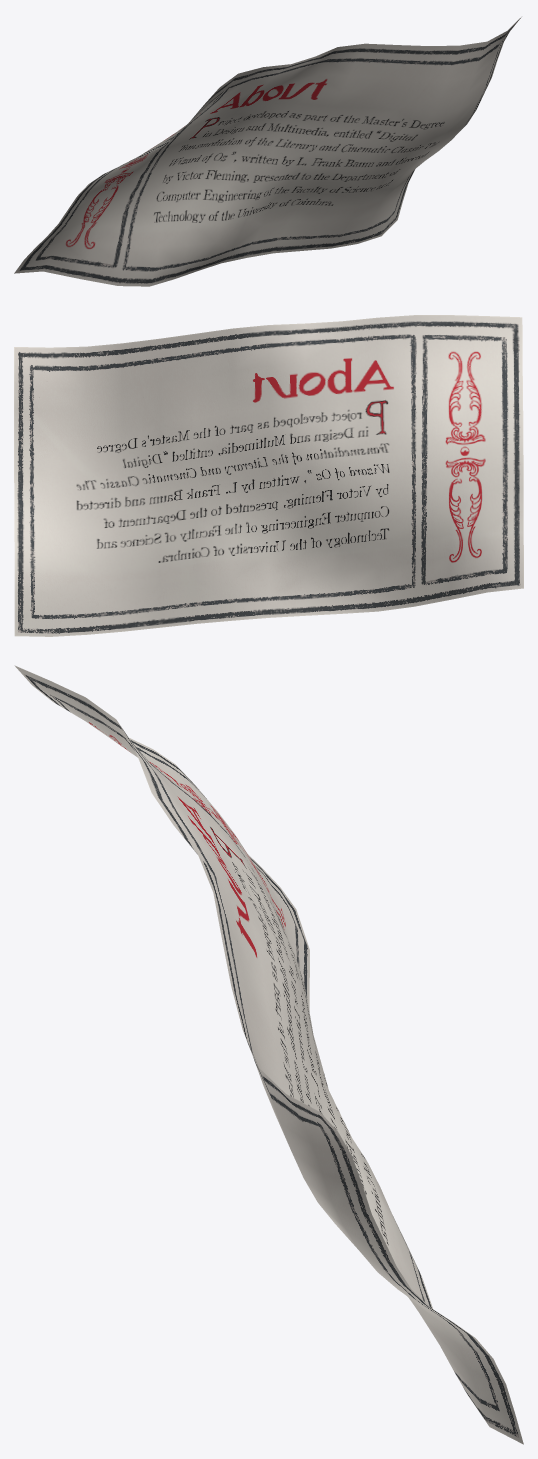
Rendered from ABOUT.glb.
The picture shows the model from 3 angles, top to bottom: view 1: azimuth 30°, elevation 25°; view 2: azimuth 150°, elevation 25°; view 3: azimuth 270°, elevation 25°; orthographic projection. The views are drawn at different scales.
Parts seen in each view (by area): view 1: About.001; view 2: About.001; view 3: About.001.
Boxes of the visible parts, left/top/right/bottom form: About.001: left=14, top=17, right=521, bottom=286; About.001: left=14, top=315, right=523, bottom=636; About.001: left=14, top=665, right=523, bottom=1444.
Size of the model in its own units: 0.0329 by 0.0189 by 0.0173.
1 material, 1 textured.
